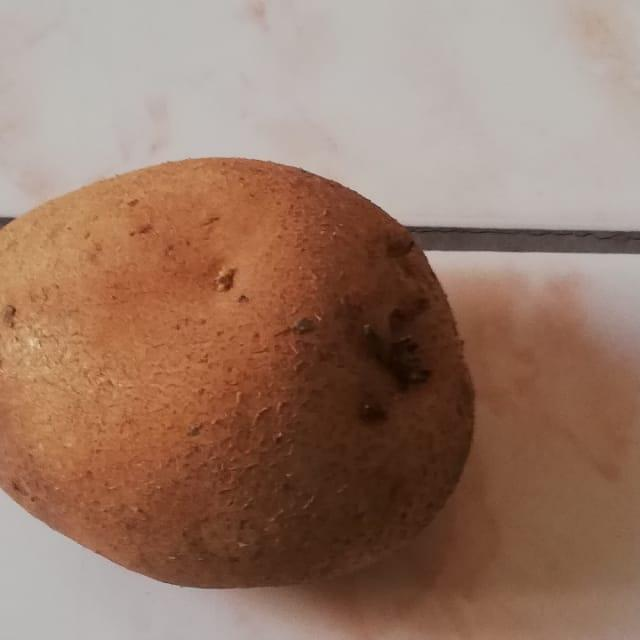potato: (0, 119, 512, 609)
